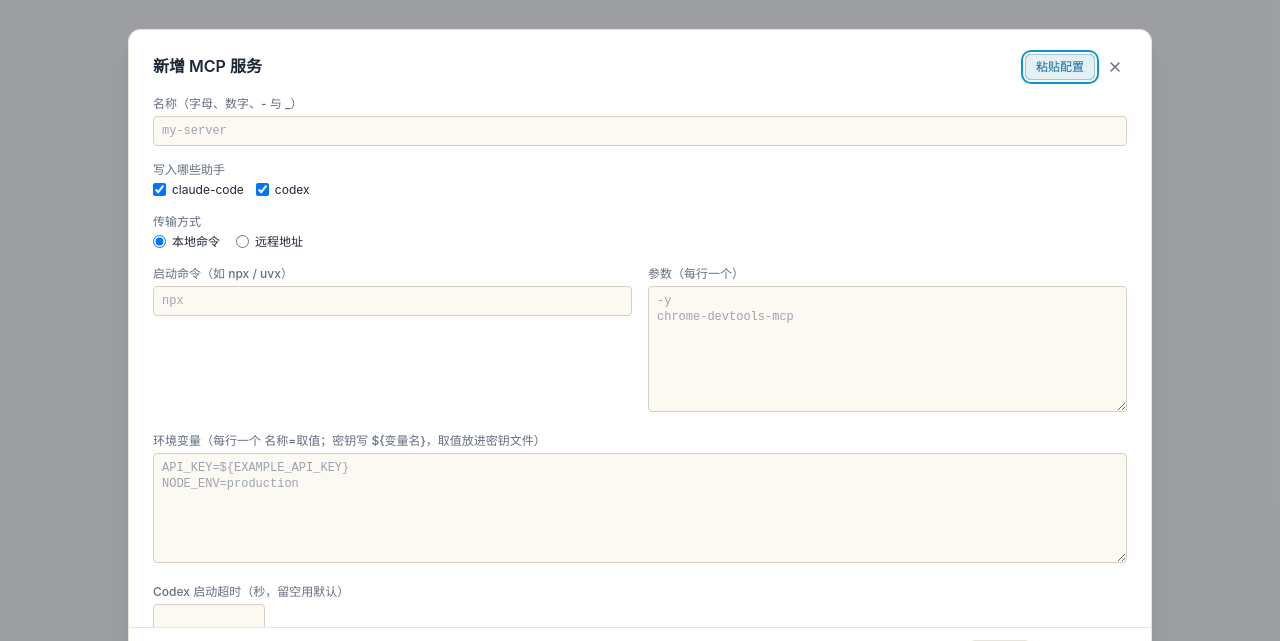
Test: McpServerFormDialog › 粘贴读不出来时就地说明，表单不动
Click the button with test id "server-paste-open" at point(1060, 67), box top-left (1025, 54), bottom-right (1095, 80)
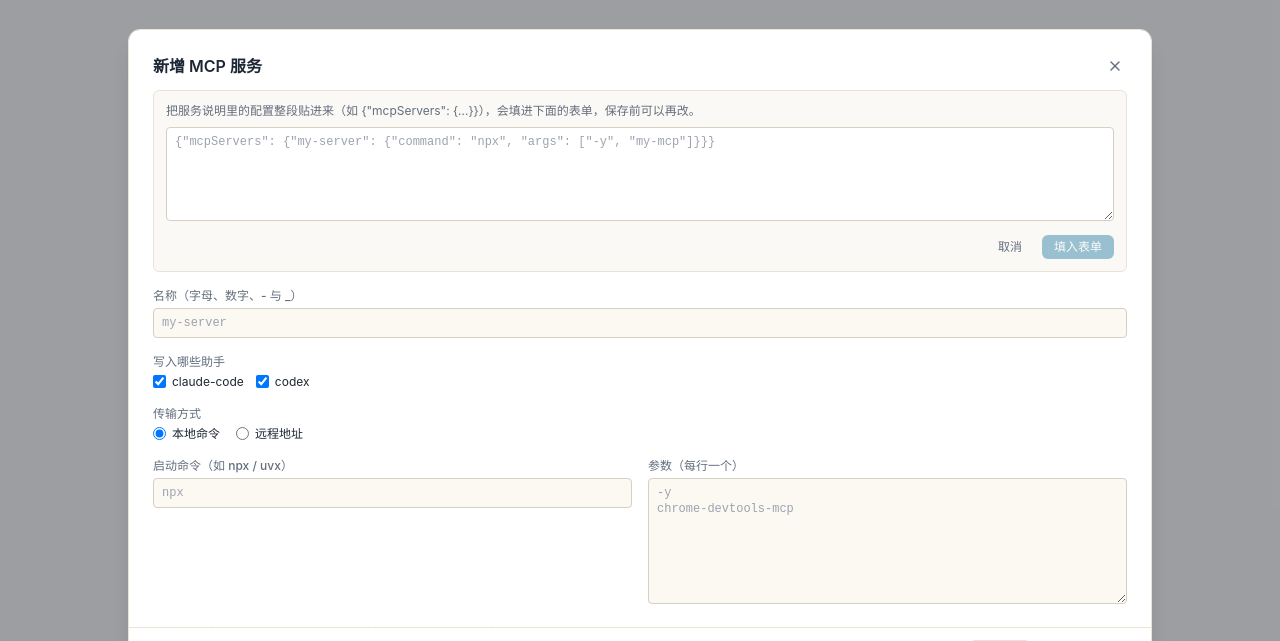
Type "not json" into the text box with test id "server-paste-input" at point(640, 174), box top-left (166, 127), bottom-right (1114, 221)
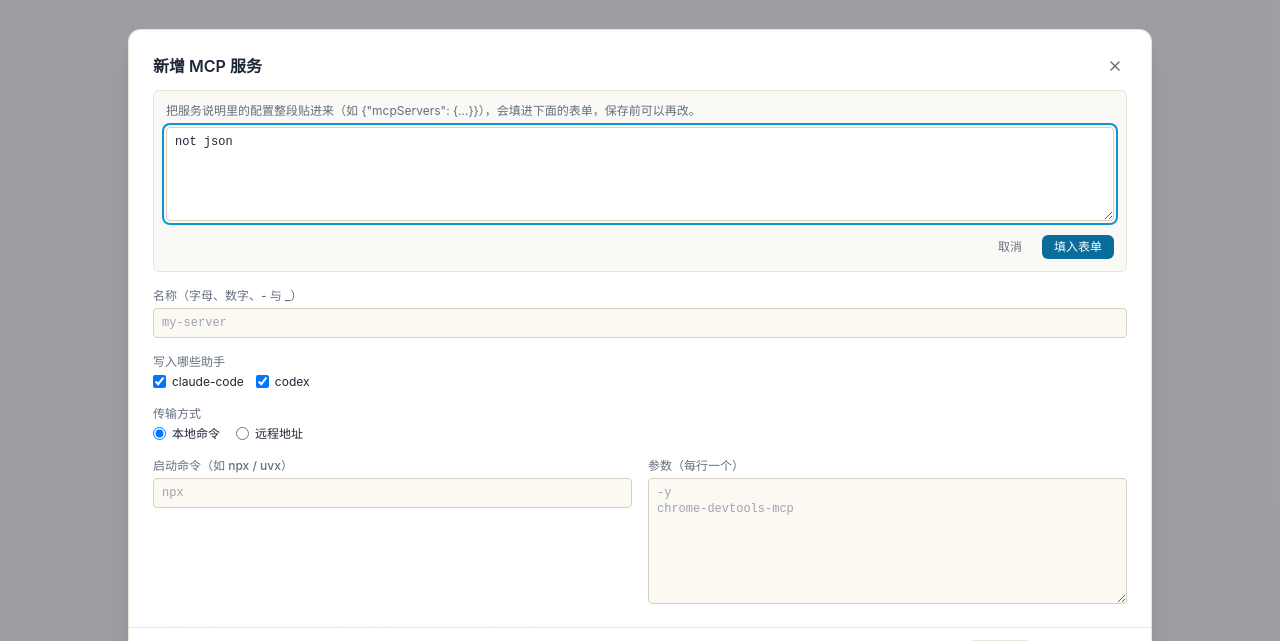
Click the button with test id "server-paste-fill" at point(1078, 247), box top-left (1042, 235), bottom-right (1114, 259)
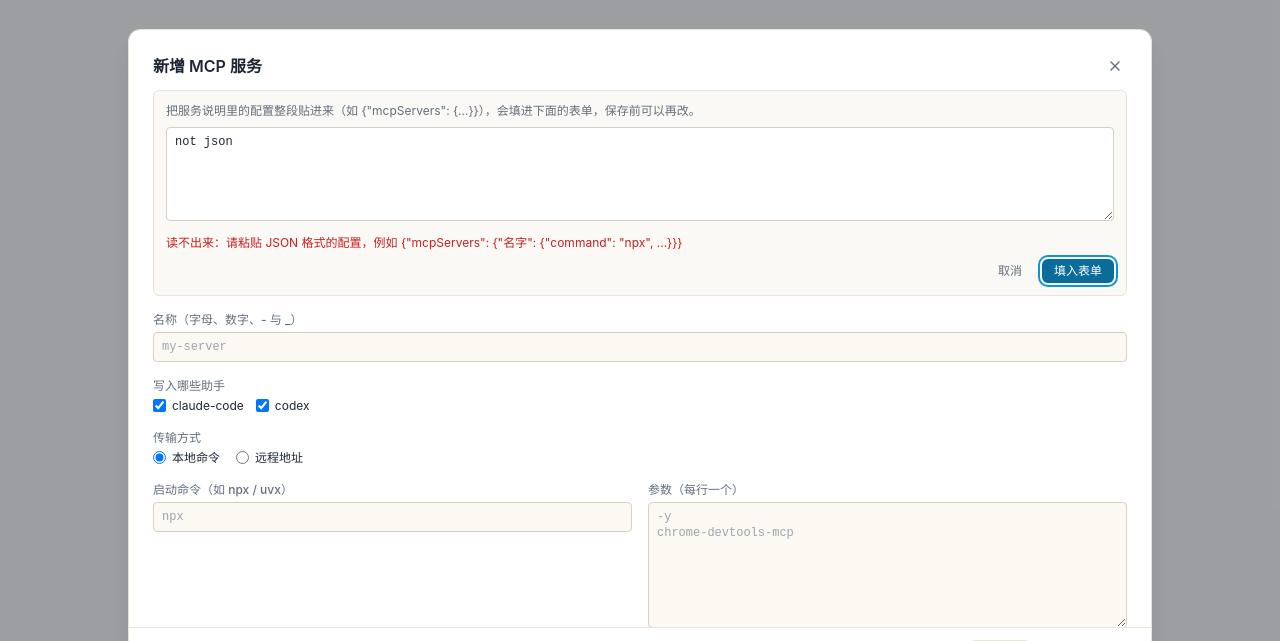
Expected: the field with test id "server-name-input" is empty, top-left (153, 332), bottom-right (1127, 362)
Result: the message shows "读不出来" at top-left (166, 235), bottom-right (682, 250)
